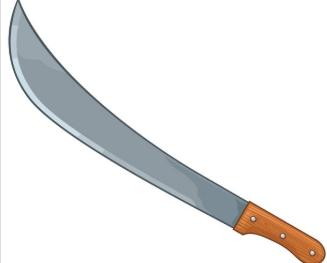MACHETTE: (7, 0, 327, 263)
